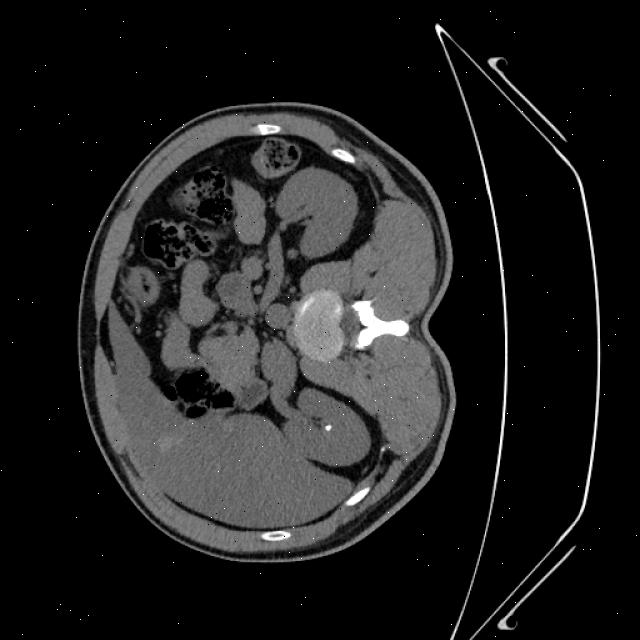kidneystone: (325, 424, 332, 429)
